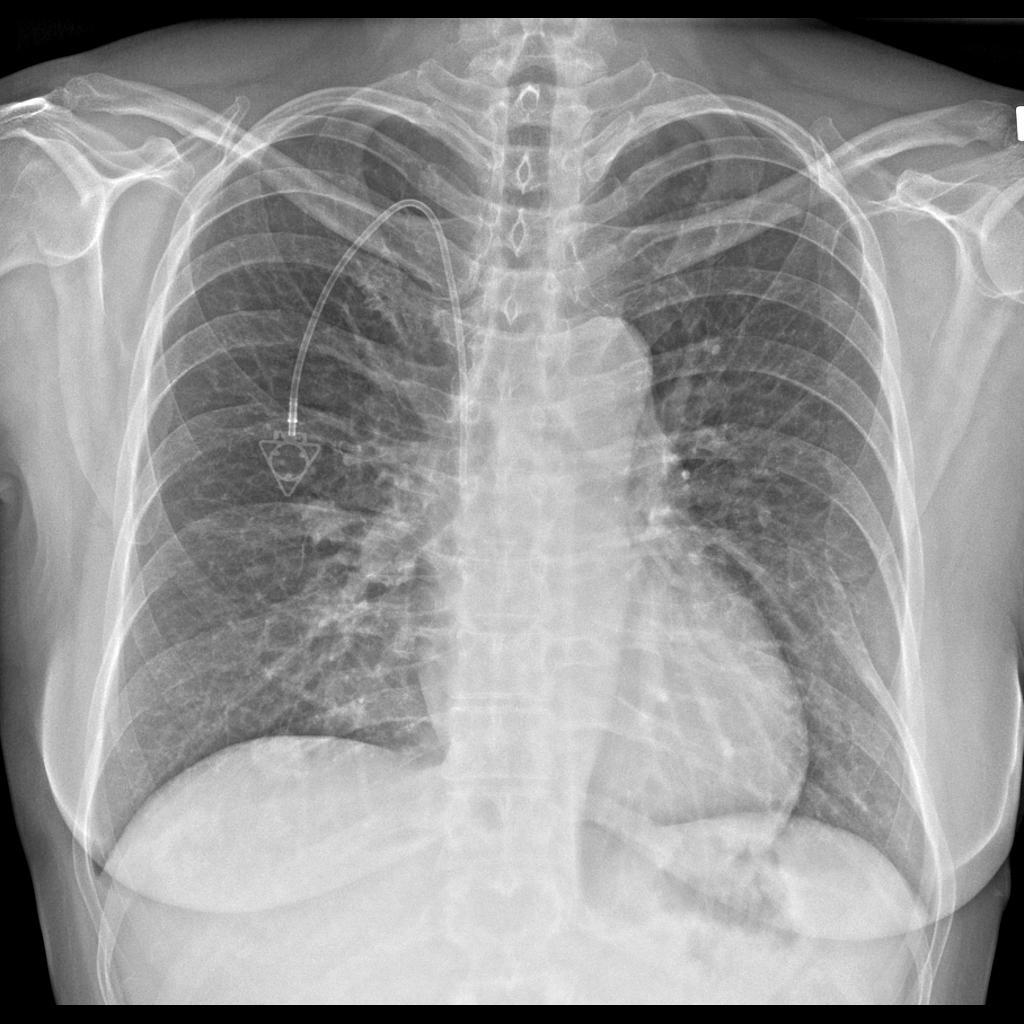Nodule: (344, 511, 425, 595)
